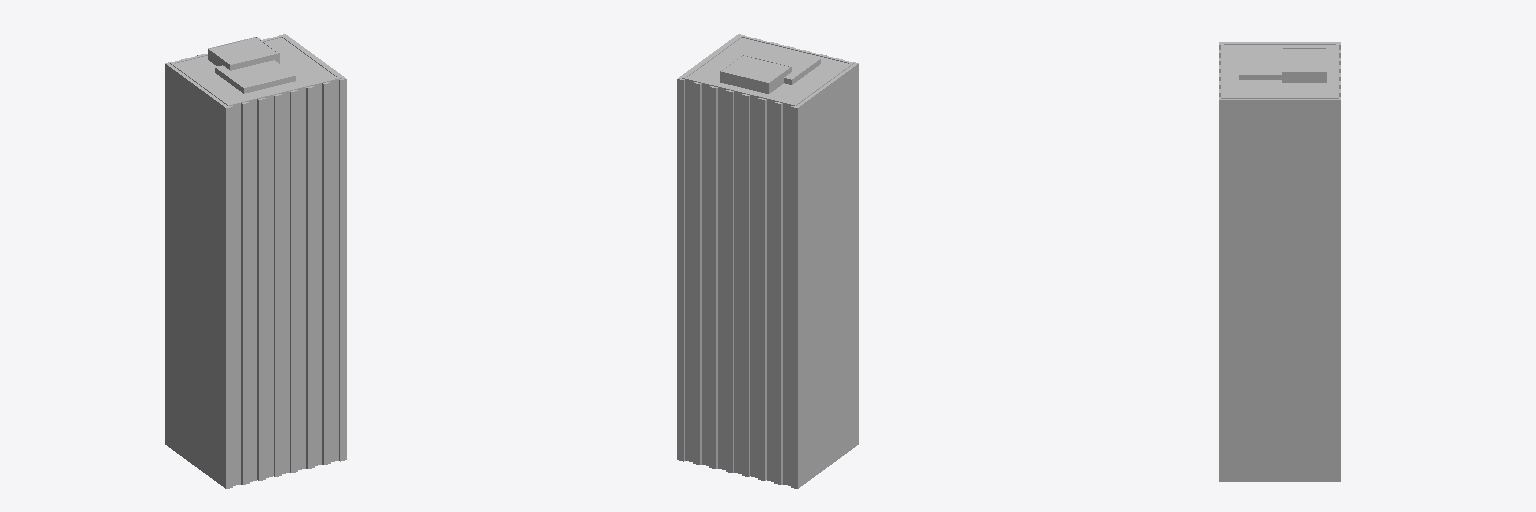
Rendered from Building_Five.obj.
3 renders of one model, left to right at view 1: azimuth 30°, elevation 25°; view 2: azimuth 150°, elevation 25°; view 3: azimuth 270°, elevation 25°, orthographic.
Visible parts, largest first — view 1: grp_building_geo19 building_grp; view 2: grp_building_geo19 building_grp; view 3: grp_building_geo19 building_grp.
Part boxes in pixels (left/top/right/bottom): grp_building_geo19 building_grp: left=165, top=34, right=346, bottom=488; grp_building_geo19 building_grp: left=677, top=34, right=858, bottom=488; grp_building_geo19 building_grp: left=1219, top=42, right=1340, bottom=481.
Size of the model in its own units: 5.02 by 15.6 by 4.43.